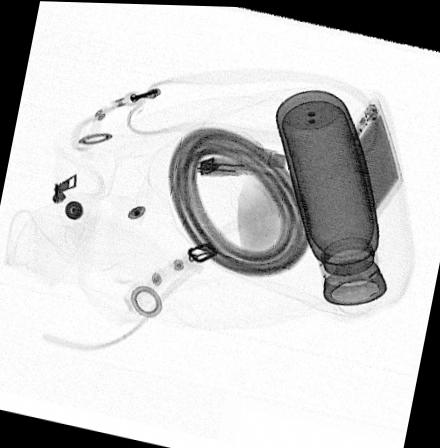Powerbank: (338, 97, 404, 220)
